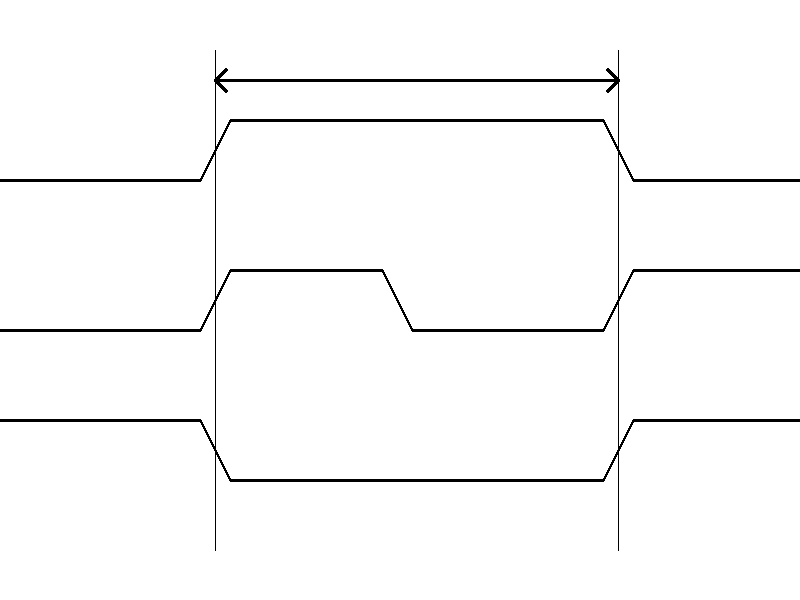double_arrow: (215, 65, 618, 95)
